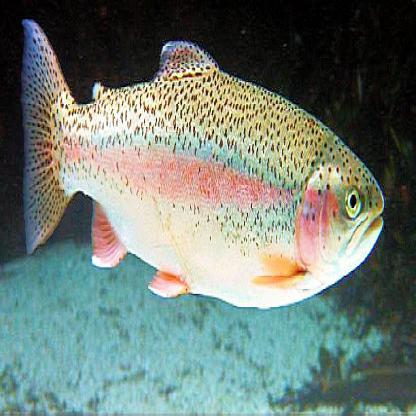fish: (15, 16, 385, 313)
